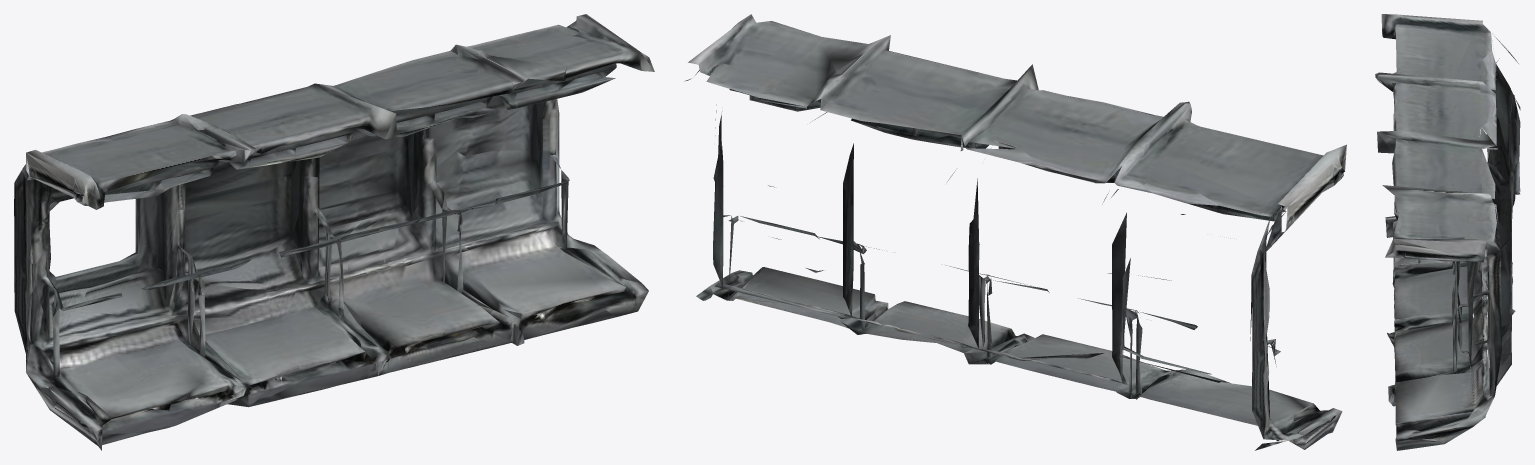
File: hangar_corridor_arch_b.glb
3 renders of one model, left to right at view 1: azimuth 30°, elevation 25°; view 2: azimuth 150°, elevation 25°; view 3: azimuth 270°, elevation 25°, orthographic. The views are drawn at different scales.
Visible parts, largest first — view 1: hangar_corridor_arch_b; view 2: hangar_corridor_arch_b; view 3: hangar_corridor_arch_b.
Part boxes in pixels (x1,y1,x2,y2): hangar_corridor_arch_b: [14, 14, 654, 450]; hangar_corridor_arch_b: [684, 14, 1346, 450]; hangar_corridor_arch_b: [1375, 14, 1520, 450].
Size of the model in its own units: 0.4775 by 0.217 by 0.1299.
1 material, 1 textured.
